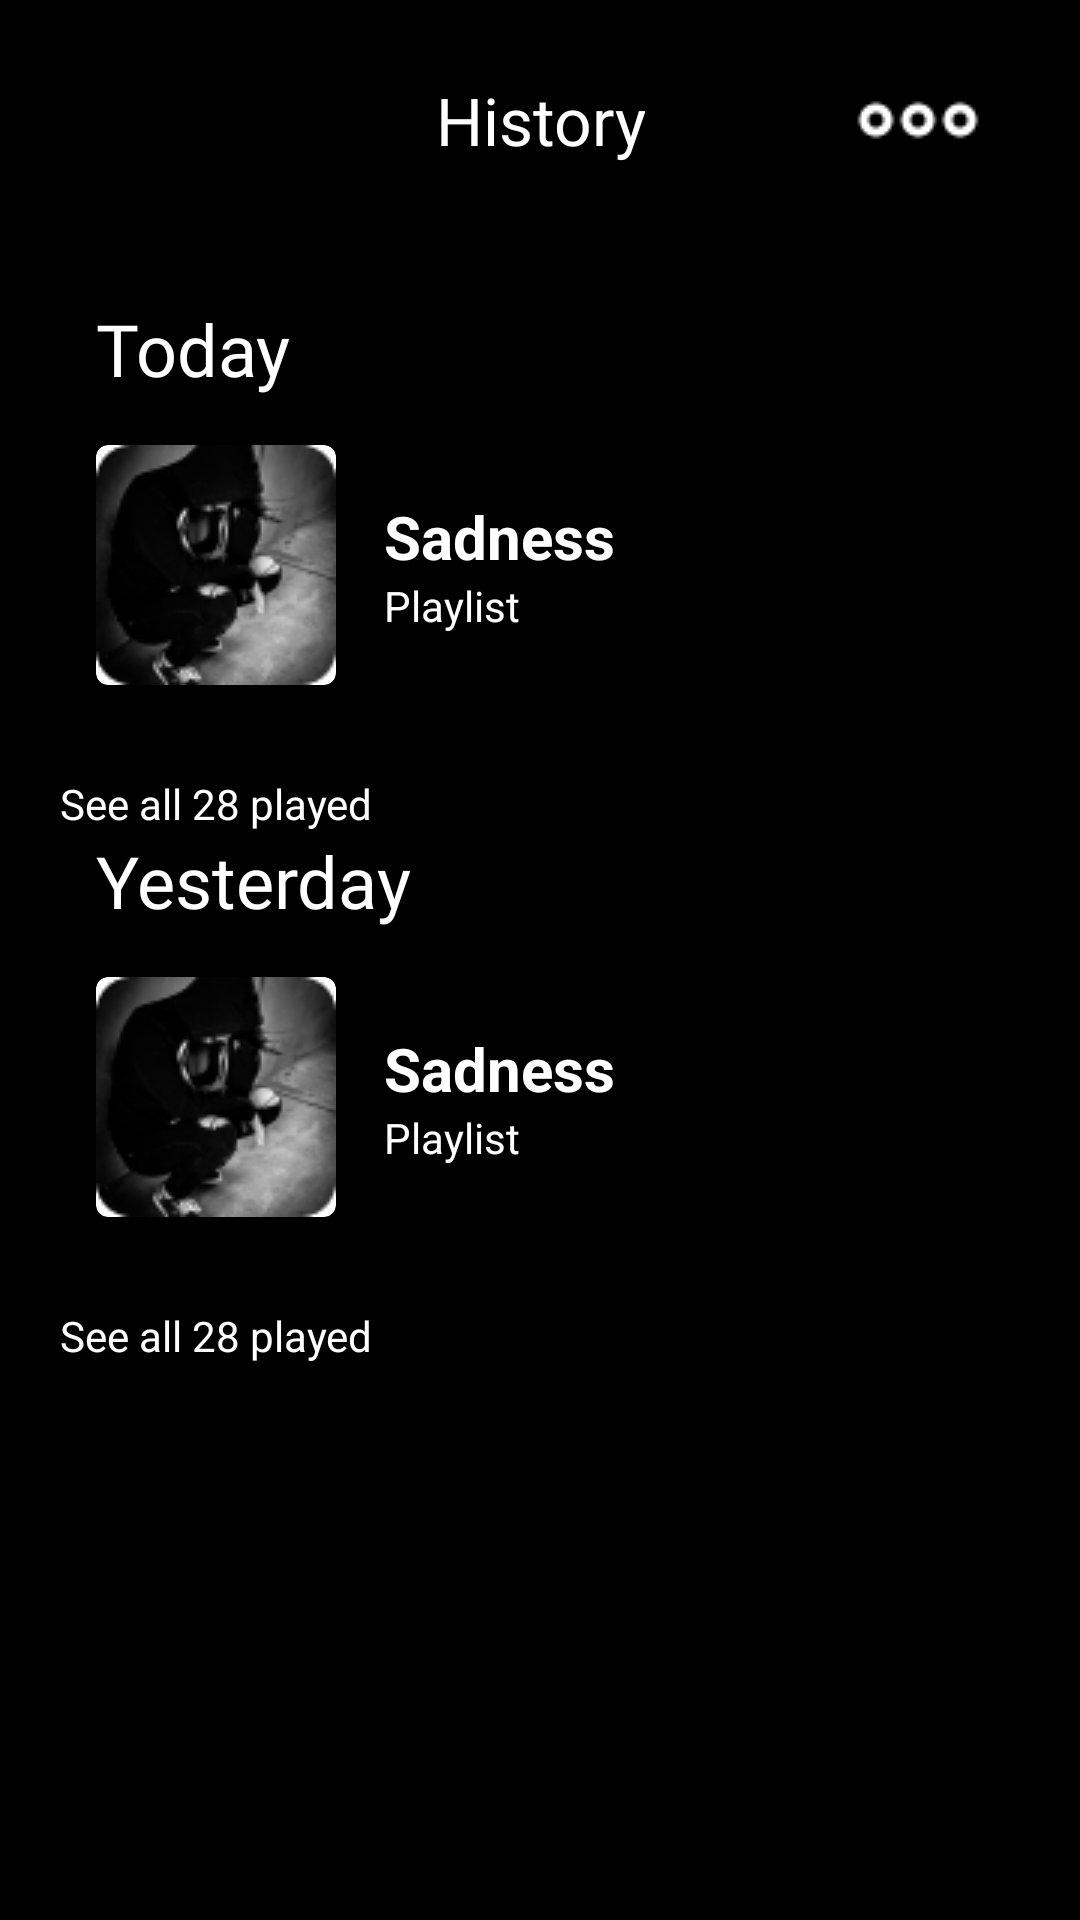

Icon bounding boxes for this 1080*1920 phone screenshot, format (x1, y1, x2, y2):
more options: (857, 101, 979, 139)
